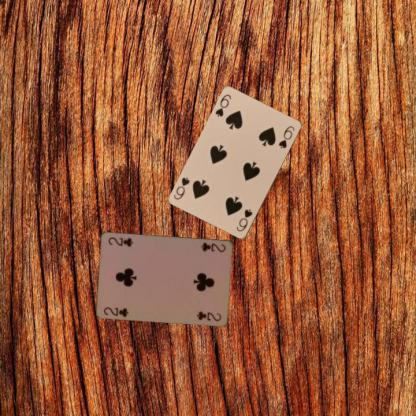2c: (101, 304, 130, 318), (199, 240, 227, 253)
6s: (234, 207, 254, 233), (213, 92, 232, 118)
